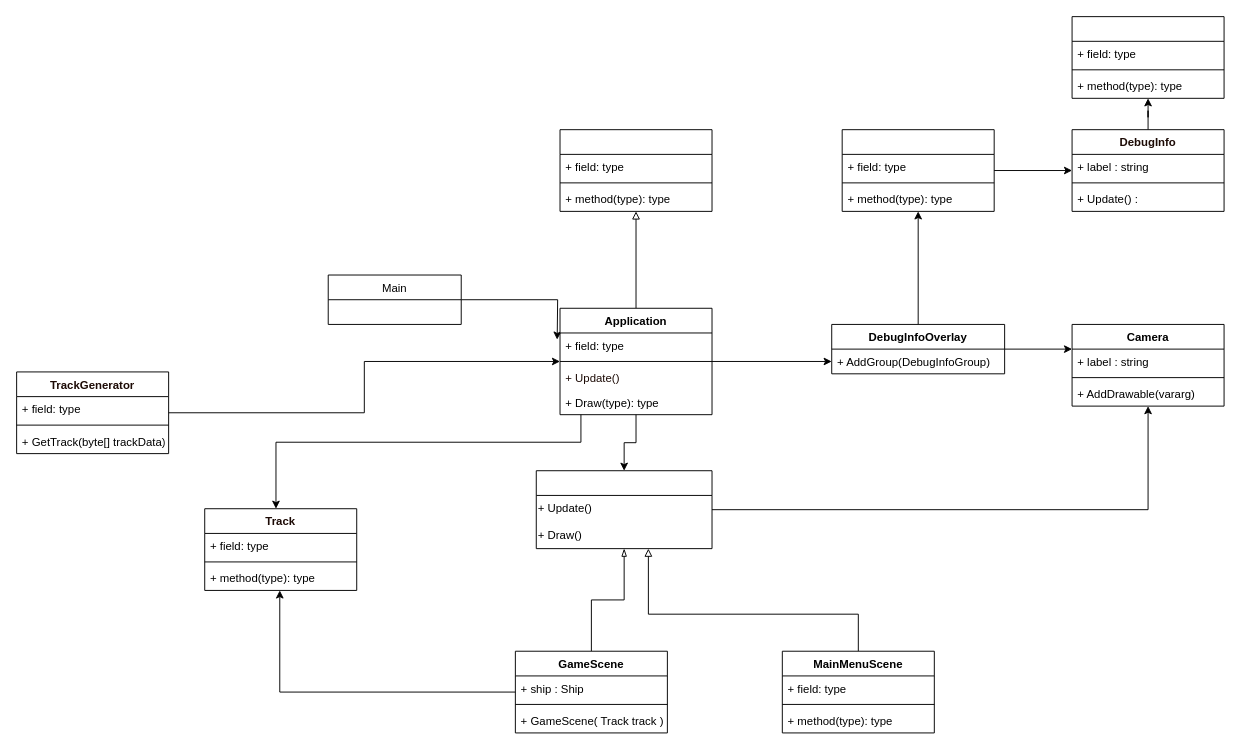
This 1241x752 diagram has some shape labels left out. Here are the shapes that lost their labels. From the top down, the box of each, then its label:
(1071, 16, 1224, 98): DebugInfoUpdateCallback
(559, 129, 712, 211): Game
(841, 129, 994, 211): DebugInfoGroup
(535, 470, 712, 549): Scene
